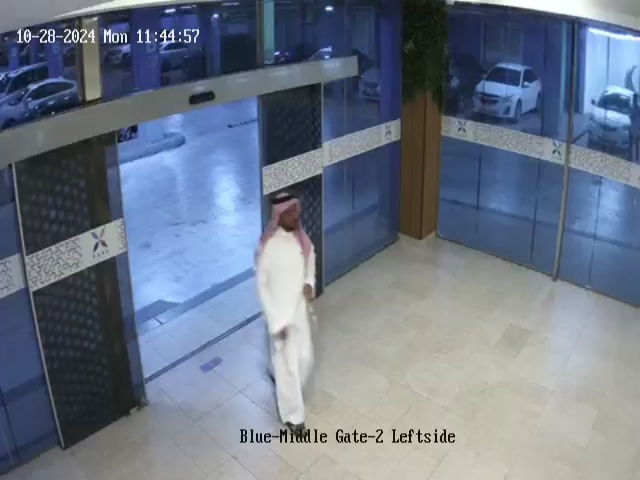male: (253, 193, 319, 434)
